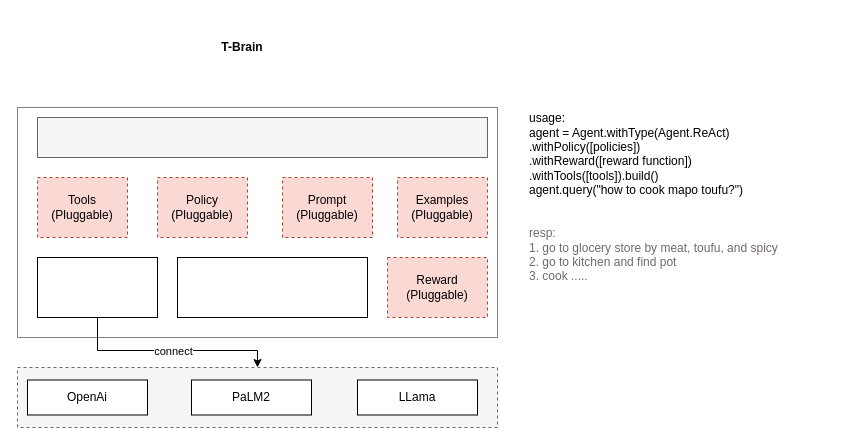
Image size: 845x445. Some labels were removed from this diagram. Each missing label, with the centre of its shape:
Agent(Selection&Evaluation): pixel 262 137
LLM-Adapter: pixel 97 287
Memory: pixel 272 287
